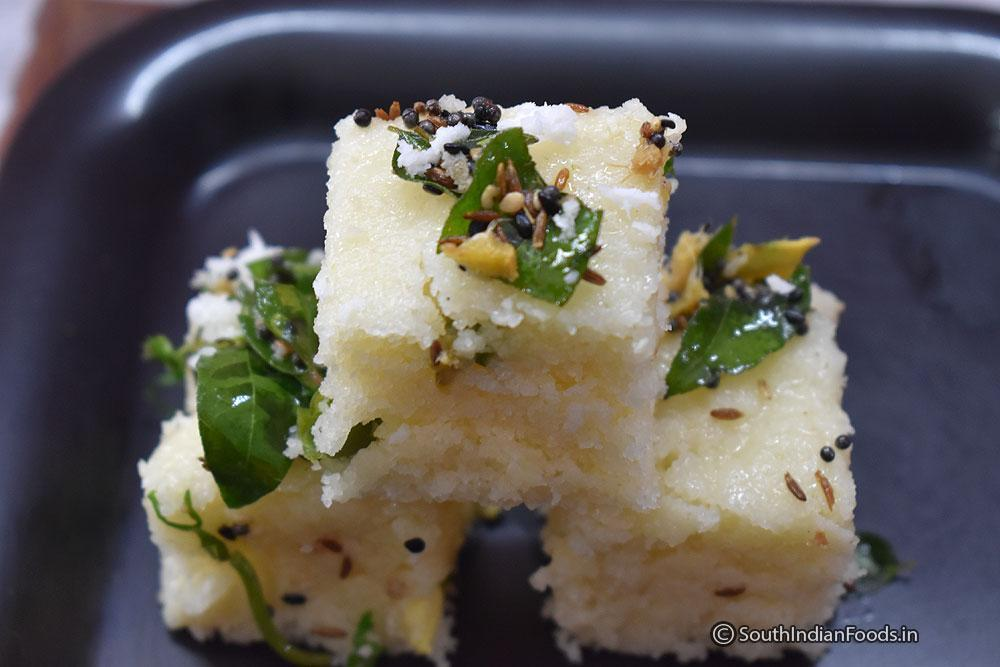dhokla: (136, 99, 864, 666)
